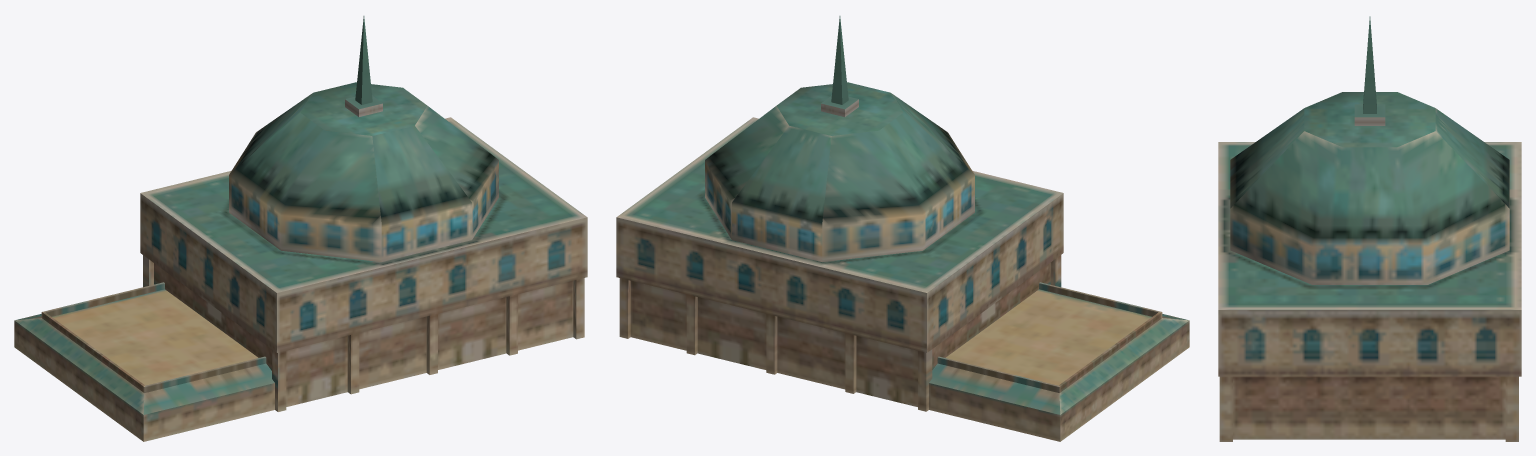
File: mun_nboo_hospital_s01_r0_mesh_l3.fbx
3 renders of one model, left to right at view 1: azimuth 30°, elevation 25°; view 2: azimuth 150°, elevation 25°; view 3: azimuth 270°, elevation 25°, orthographic. The views are drawn at different scales.
Visible parts, largest first — view 1: mesh_node; view 2: mesh_node; view 3: mesh_node.
Boxes of the visible parts, x1=… form: mesh_node: x1=14, y1=16, x2=587, y2=441; mesh_node: x1=616, y1=16, x2=1189, y2=441; mesh_node: x1=1218, y1=16, x2=1521, y2=441.
Bounding box in the file's own units: 93.88 × 63.41 × 50.51.
